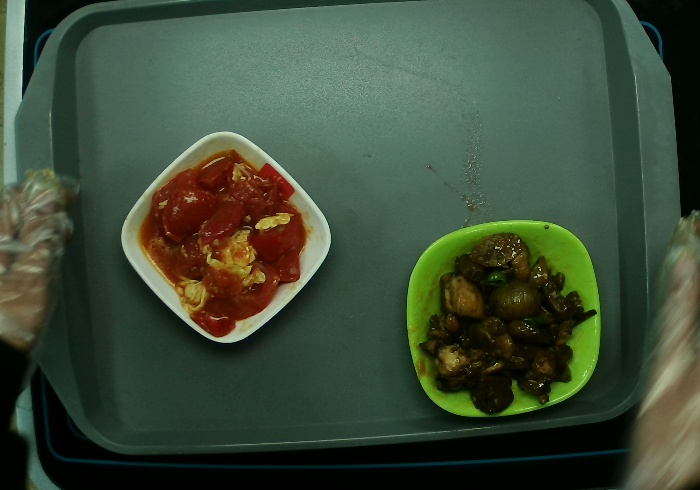SHKJ-Bai_Se_Xiao_Fang_Die: (119, 130, 332, 343)
SHKJ-Lv_Se_Cai_Die: (406, 219, 606, 419)
